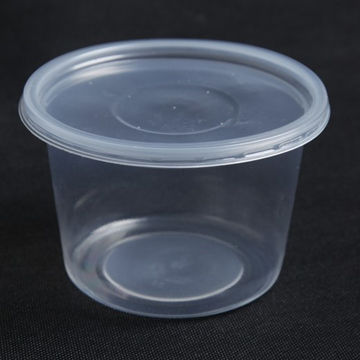PlasticBox: (16, 33, 331, 319)
